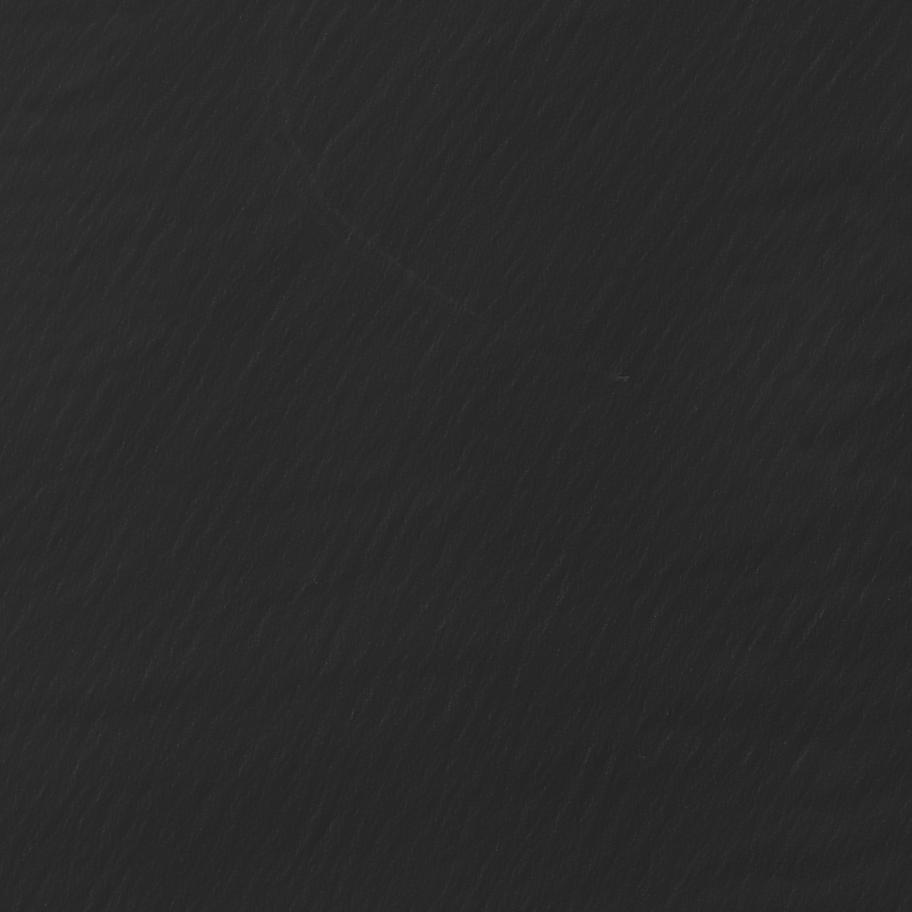ship: (618, 375, 630, 379)
